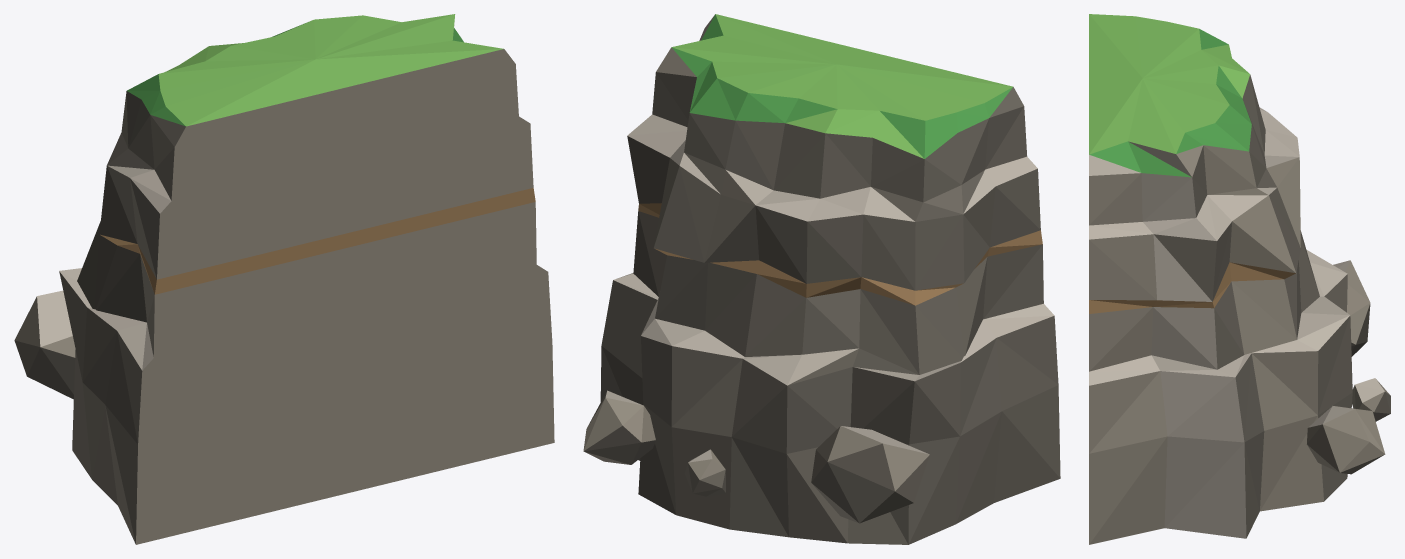
The model's file is cliff_chunk_a.glb.
3 renders of one model, left to right at view 1: azimuth 30°, elevation 25°; view 2: azimuth 150°, elevation 25°; view 3: azimuth 270°, elevation 25°, orthographic. The views are drawn at different scales.
Visible parts, largest first — view 1: cliff_chunk_a; view 2: cliff_chunk_a; view 3: cliff_chunk_a.
Boxes of the visible parts, x1,y1,x2,y2 form: cliff_chunk_a: [14, 14, 554, 544]; cliff_chunk_a: [583, 14, 1060, 544]; cliff_chunk_a: [1089, 14, 1390, 544].
Bounding box in the file's own units: 6.6 × 6.22 × 4.55.
